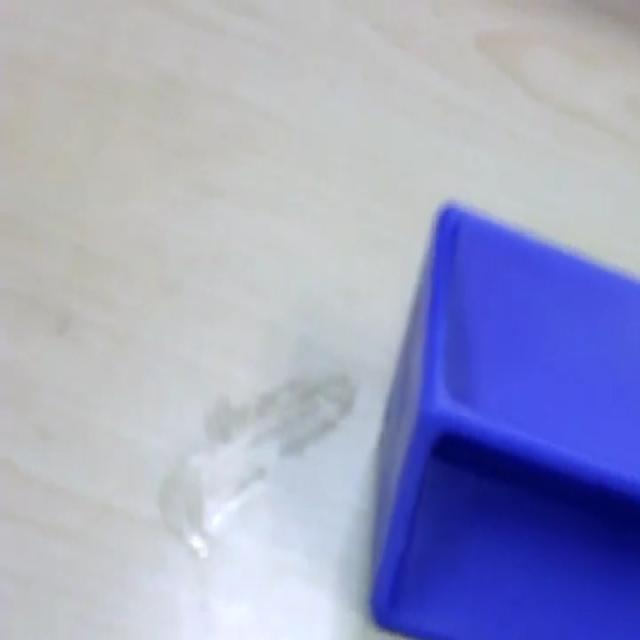blue_block: (368, 198, 638, 638)
